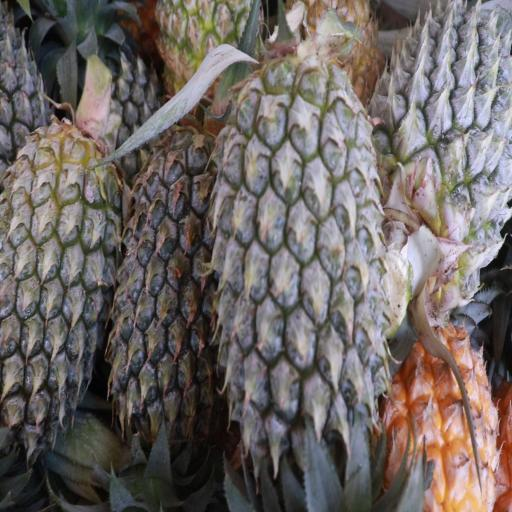Pineapple - v8 v1: (385, 317, 498, 512)
